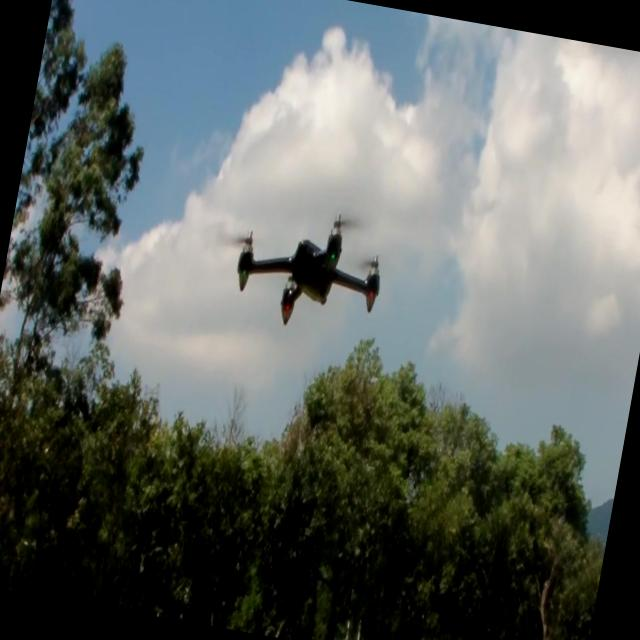drone: (227, 196, 394, 340)
